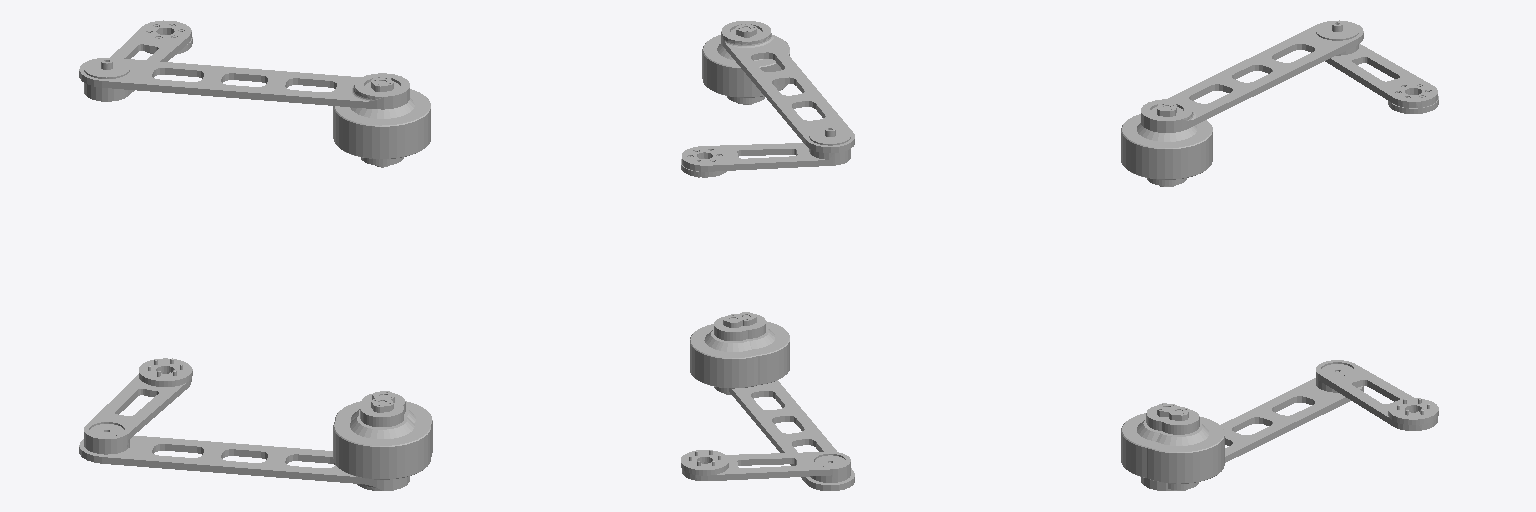
The robot description file, URDF, robot "main":
<?xml version="1.0" encoding="utf-8"?>
<!-- This URDF was automatically created by SolidWorks to URDF Exporter! Originally created by [author] ([email redacted]) 
     Commit Version: 1.6.0-4-g7f85cfe  Build Version: 1.6.7995.38578
     For more information, please see http://wiki.ros.org/sw_urdf_exporter -->
<robot name="main">
    <link name="base_link">
        <inertial>
            <origin xyz="-0.067218 1.1041 0.082533" rpy="0 0 0" />
            <mass value="9.25" />
            <inertia ixx="0.028386" ixy="-5.7075E-06" ixz="-9.8079E-06" iyy="0.041168" iyz="1.3954E-06" izz="0.062197" />
        </inertial>
        <visual>
            <origin xyz="0 0 0" rpy="0 0 0" />
            <geometry>
                <mesh filename="../meshes/base_link.STL" />
            </geometry>
            <material name="">
                <color rgba="0.75294 0.75294 0.75294 1" />
            </material>
        </visual>
        <collision>
            <origin xyz="0 0 0" rpy="0 0 0" />
            <geometry>
                <mesh filename="../meshes/base_link.STL" />
            </geometry>
        </collision>
    </link>
    <link name="lf0_Link">
        <inertial>
            <origin xyz="-0.078475 0.018687 0.045086" rpy="0 0 0" />
            <mass value="0.3131" />
            <inertia ixx="0.00021536" ixy="-1.3936E-05" ixz="0.00024407" iyy="0.00070373" iyz="8.0063E-06" izz="0.00049996" />
        </inertial>
        <visual>
            <origin xyz="0 0 0" rpy="0 0 0" />
            <geometry>
                <mesh filename="../meshes/lf0_Link.STL" />
            </geometry>
            <material name="">
                <color rgba="0.75294 0.75294 0.75294 1" />
            </material>
        </visual>
        <collision>
            <origin xyz="0 0 0" rpy="0 0 0" />
            <geometry>
                <mesh filename="../meshes/lf0_Link.STL" />
            </geometry>
        </collision>
    </link>
    <joint name="lf0_Joint" type="revolute">
        <origin xyz="-0.16273 -0.039204 0.88016" rpy="1.5708 0 0.095234" />
        <parent link="base_link" />
        <child link="lf0_Link" />
        <axis xyz="0 1 0" />
        <limit lower="0" upper="0" effort="0" velocity="0" />
    </joint>
    <link name="lf1_Link">
        <inertial>
            <origin xyz="0.093195 0.00079988 0.08634" rpy="0 0 0" />
            <mass value="0.3802" />
            <inertia ixx="0.0019587" ixy="2.6727E-05" ixz="-0.0019591" iyy="0.0042067" iyz="2.4761E-05" izz="0.0022584" />
        </inertial>
        <visual>
            <origin xyz="0 0 0" rpy="0 0 0" />
            <geometry>
                <mesh filename="../meshes/lf1_Link.STL" />
            </geometry>
            <material name="">
                <color rgba="0.75294 0.75294 0.75294 1" />
            </material>
        </visual>
        <collision>
            <origin xyz="0 0 0" rpy="0 0 0" />
            <geometry>
                <mesh filename="../meshes/lf1_Link.STL" />
            </geometry>
        </collision>
    </link>
    <joint name="lf1_Joint" type="revolute">
        <origin xyz="-0.13006 0 0.074724" rpy="0 -0.055633 0" />
        <parent link="lf0_Link" />
        <child link="lf1_Link" />
        <axis xyz="0 1 0" />
        <limit lower="0" upper="0" effort="0" velocity="0" />
    </joint>
    <link name="l_wheel_Link">
        <inertial>
            <origin xyz="2.1344E-14 0.034473 1.843E-14" rpy="0 0 0" />
            <mass value="1.688" />
            <inertia ixx="0.0004649" ixy="-6.7289E-20" ixz="-4.0709E-21" iyy="0.00071923" iyz="-2.7657E-19" izz="0.0004649" />
        </inertial>
        <visual>
            <origin xyz="0 0 0" rpy="0 0 0" />
            <geometry>
                <mesh filename="../meshes/l_wheel_Link.STL" />
            </geometry>
            <material name="">
                <color rgba="0.75294 0.75294 0.75294 1" />
            </material>
        </visual>
        <collision>
            <origin xyz="0 0 0" rpy="0 0 0" />
            <geometry>
                <mesh filename="../meshes/l_wheel_Link.STL" />
            </geometry>
        </collision>
    </link>
    <joint name="l_wheel_Joint" type="revolute">
        <origin xyz="0.22007 0 0.20388" rpy="0 -0.039601 0" />
        <parent link="lf1_Link" />
        <child link="l_wheel_Link" />
        <axis xyz="0 -1 0" />
        <limit lower="0" upper="0" effort="0" velocity="0" />
    </joint>
    <link name="rf0_Link">
        <inertial>
            <origin xyz="-0.078475 -0.0026859 0.045086" rpy="0 0 0" />
            <mass value="0.3131" />
            <inertia ixx="0.00021536" ixy="-1.3936E-05" ixz="0.00024407" iyy="0.00070373" iyz="8.0063E-06" izz="0.00049996" />
        </inertial>
        <visual>
            <origin xyz="0 0 0" rpy="0 0 0" />
            <geometry>
                <mesh filename="../meshes/rf0_Link.STL" />
            </geometry>
            <material name="">
                <color rgba="0.75294 0.75294 0.75294 1" />
            </material>
        </visual>
        <collision>
            <origin xyz="0 0 0" rpy="0 0 0" />
            <geometry>
                <mesh filename="../meshes/rf0_Link.STL" />
            </geometry>
        </collision>
    </link>
    <joint name="rf0_Joint" type="revolute">
        <origin xyz="-0.1056 0.42657 -0.28176" rpy="3.1416 1.1382 0" />
        <parent link="l_wheel_Link" />
        <child link="rf0_Link" />
        <axis xyz="0 0 0" />
        <limit lower="0" upper="0" effort="0" velocity="0" />
    </joint>
    <link name="rf1_Link">
        <inertial>
            <origin xyz="-0.12688 -0.0018226 -0.11754" rpy="0 0 0" />
            <mass value="0.3802" />
            <inertia ixx="0.0019587" ixy="2.6727E-05" ixz="-0.0019591" iyy="0.0042067" iyz="2.4761E-05" izz="0.0022584" />
        </inertial>
        <visual>
            <origin xyz="0 0 0" rpy="0 0 0" />
            <geometry>
                <mesh filename="../meshes/rf1_Link.STL" />
            </geometry>
            <material name="">
                <color rgba="0.75294 0.75294 0.75294 1" />
            </material>
        </visual>
        <collision>
            <origin xyz="0 0 0" rpy="0 0 0" />
            <geometry>
                <mesh filename="../meshes/rf1_Link.STL" />
            </geometry>
        </collision>
    </link>
    <joint name="rf1_Joint" type="revolute">
        <origin xyz="-0.21153 -0.018751 -0.214" rpy="3.1416 0.54854 3.1416" />
        <parent link="rf0_Link" />
        <child link="rf1_Link" />
        <axis xyz="0 0 0" />
        <limit lower="0" upper="0" effort="0" velocity="0" />
    </joint>
    <link name="r_wheel_Link">
        <inertial>
            <origin xyz="1.8978E-14 -0.03185 1.8707E-14" rpy="0 0 0" />
            <mass value="1.688" />
            <inertia ixx="0.0004649" ixy="-6.7878E-20" ixz="5.4967E-21" iyy="0.00071923" iyz="-2.9606E-19" izz="0.0004649" />
        </inertial>
        <visual>
            <origin xyz="0 0 0" rpy="0 0 0" />
            <geometry>
                <mesh filename="../meshes/r_wheel_Link.STL" />
            </geometry>
            <material name="">
                <color rgba="0.75294 0.75294 0.75294 1" />
            </material>
        </visual>
        <collision>
            <origin xyz="0 0 0" rpy="0 0 0" />
            <geometry>
                <mesh filename="../meshes/r_wheel_Link.STL" />
            </geometry>
        </collision>
    </link>
    <joint name="r_wheel_Joint" type="revolute">
        <origin xyz="0 0 0" rpy="-3.1416 -1.4549 0" />
        <parent link="rf1_Link" />
        <child link="r_wheel_Link" />
        <axis xyz="0 1 0" />
        <limit lower="0" upper="0" effort="0" velocity="0" />
    </joint>
</robot>

--- Render facts (derived) ---
Views: 3 orthographic renders of the robot side by side, from view 1: azimuth 30°, elevation 25°; view 2: azimuth 150°, elevation 25°; view 3: azimuth 270°, elevation 25°.
Robot: main — 7 links, 6 joints (6 revolute); root link base_link; default pose: all joints at 0.
Visible links, largest first — view 1: rf1_Link, lf1_Link, l_wheel_Link, r_wheel_Link, lf0_Link, rf0_Link, base_link; view 2: rf1_Link, lf0_Link, base_link, rf0_Link, lf1_Link, r_wheel_Link, l_wheel_Link; view 3: rf1_Link, r_wheel_Link, base_link, lf1_Link, lf0_Link, rf0_Link, l_wheel_Link.
Link boxes in pixels (x1,y1,x2,y2): rf1_Link: (79, 58, 409, 109); lf1_Link: (79, 436, 409, 490); l_wheel_Link: (333, 397, 430, 479); r_wheel_Link: (333, 77, 430, 167); lf0_Link: (84, 358, 192, 454); rf0_Link: (84, 20, 192, 101); base_link: (335, 391, 432, 456); rf1_Link: (721, 21, 854, 152); lf0_Link: (681, 450, 850, 482); base_link: (690, 314, 757, 394); rf0_Link: (681, 143, 850, 177); lf1_Link: (729, 380, 854, 490); r_wheel_Link: (702, 24, 789, 104); l_wheel_Link: (703, 312, 789, 384); rf1_Link: (1141, 20, 1363, 132); r_wheel_Link: (1121, 103, 1212, 186); base_link: (1147, 407, 1224, 490); lf1_Link: (1141, 371, 1363, 490); lf0_Link: (1316, 360, 1438, 430); rf0_Link: (1325, 44, 1438, 113); l_wheel_Link: (1121, 403, 1211, 477).
Size in the robot's own frame: 0.32 by 0.3632 by 0.4747 metres.
7 mesh visuals loaded from 7 distinct referenced files (7 binary STL).